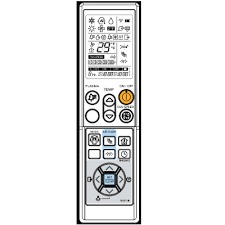remote control: (81, 1, 140, 225)
